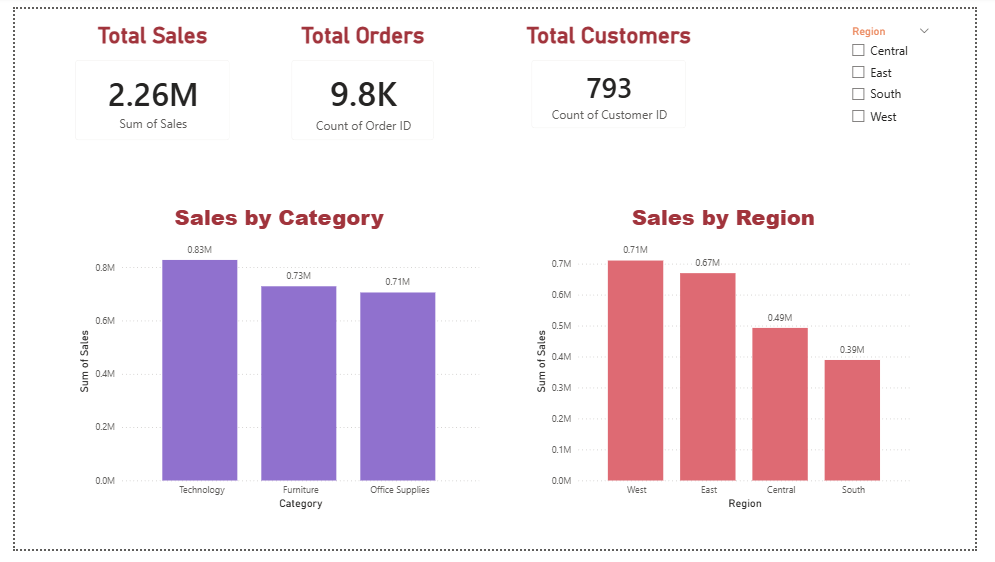

What the dashboard file says about the page in this screenshot:
{"tool":"powerbi","page":{"name":"Overview","canvas":[1280,720],"ordinal":0},"visuals":[{"type":"clusteredColumnChart","title":"Sales by Category","fields":{"Category":["cleaned_data.Category"],"Y":["Sum(cleaned_data.Sales)"]},"box":[80,256,544,416],"z":0},{"type":"slicer","title":"Sales by Region","fields":{"Values":["cleaned_data.Region"]},"box":[1104,16,128,160],"z":1000},{"type":"clusteredColumnChart","title":"Sales by Region","fields":{"Category":["cleaned_data.Region"],"Y":["Sum(cleaned_data.Sales)"]},"box":[688,256,512,416],"z":2000},{"type":"cardVisual","title":"Total Sales","fields":{"Data":["Sum(cleaned_data.Sales)"]},"box":[64,16,240,176],"z":3000},{"type":"cardVisual","title":"Total Orders","fields":{"Data":["CountNonNull(cleaned_data.Order ID)"]},"box":[352,16,224,176],"z":4000},{"type":"cardVisual","title":"Total Customers","fields":{"Data":["Count(cleaned_data.Customer ID)"]},"box":[672,16,240,160],"z":5000}]}

Visuals, with their boxes in screenshot pixels (x1, y1, x2, y2), scaled from the page's 1280x720 canvas onto the 995x562 screenshot:
"Sales by Category" clusteredColumnChart: 62 200 485 525
"Sales by Region" slicer: 858 12 958 137
"Sales by Region" clusteredColumnChart: 535 200 933 525
"Total Sales" cardVisual: 50 12 236 150
"Total Orders" cardVisual: 274 12 448 150
"Total Customers" cardVisual: 522 12 709 137
